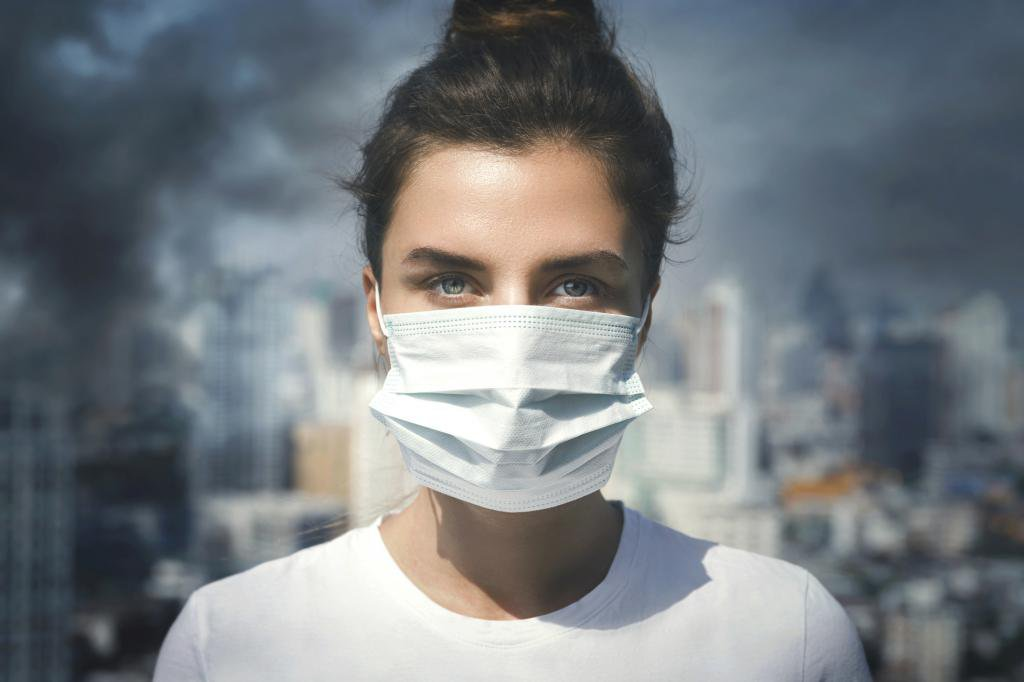mask: (330, 23, 705, 553)
